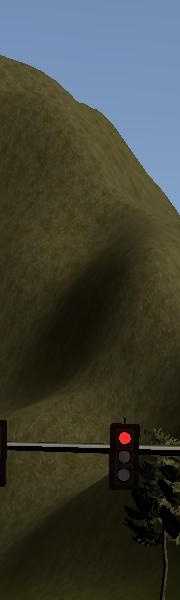Red: (108, 425, 139, 492)
